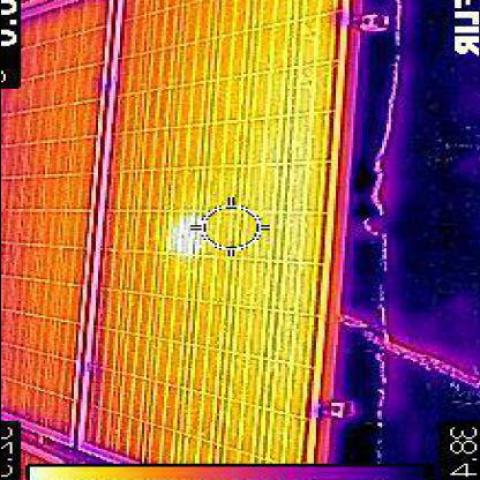fault: (171, 218, 197, 254)
